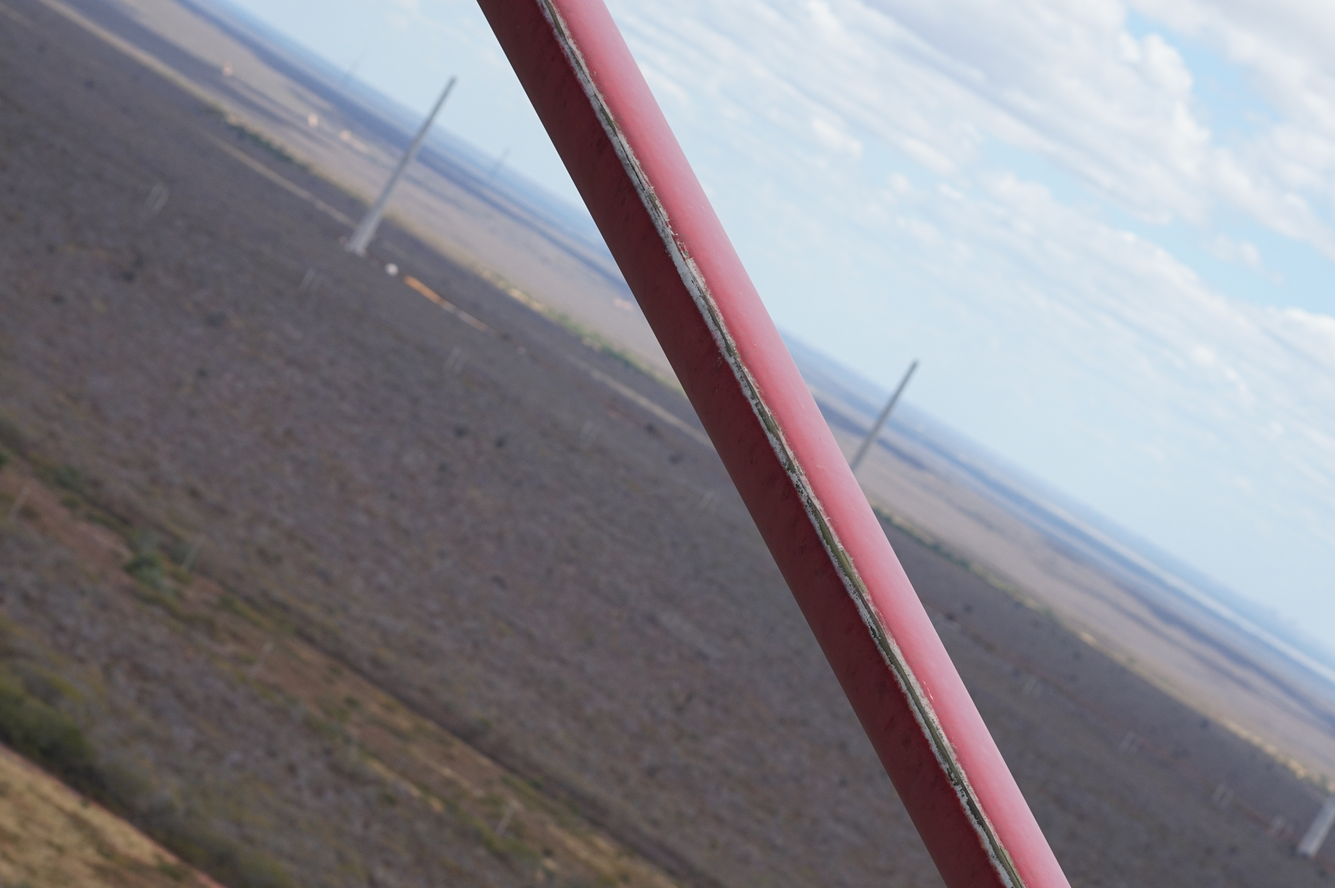Damage: (537, 1, 1025, 887)
